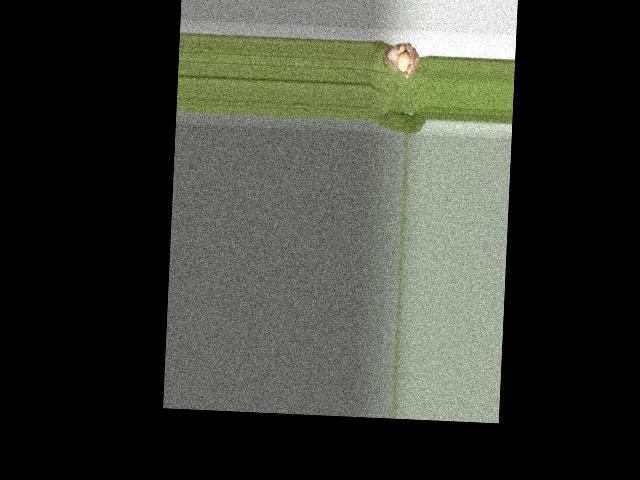egg: (397, 51, 410, 72)
